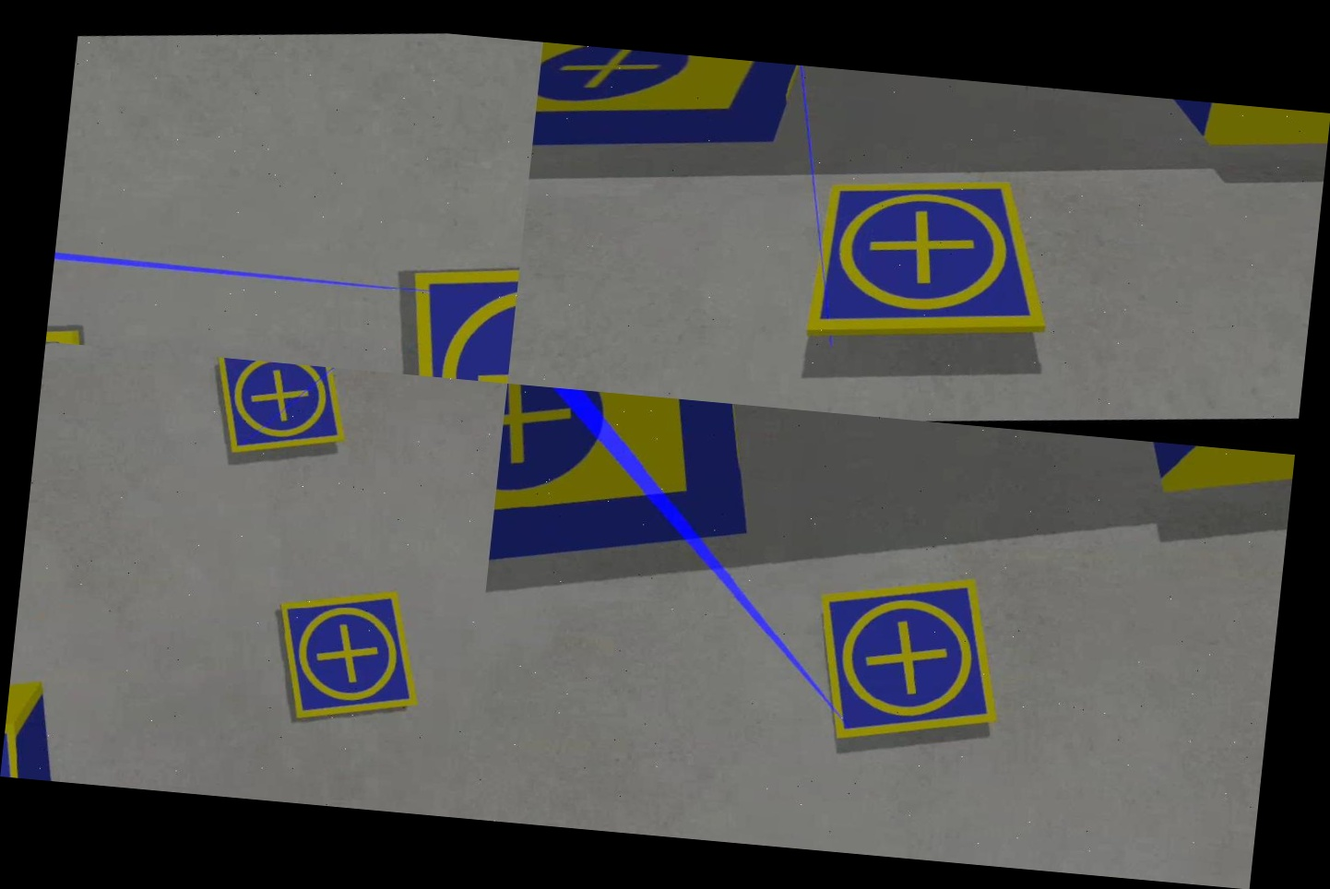large_base: (485, 384, 767, 622), (530, 42, 821, 192)
small_base: (791, 158, 1065, 358), (800, 558, 1019, 761), (267, 578, 433, 735), (399, 241, 521, 384), (201, 357, 354, 471)
